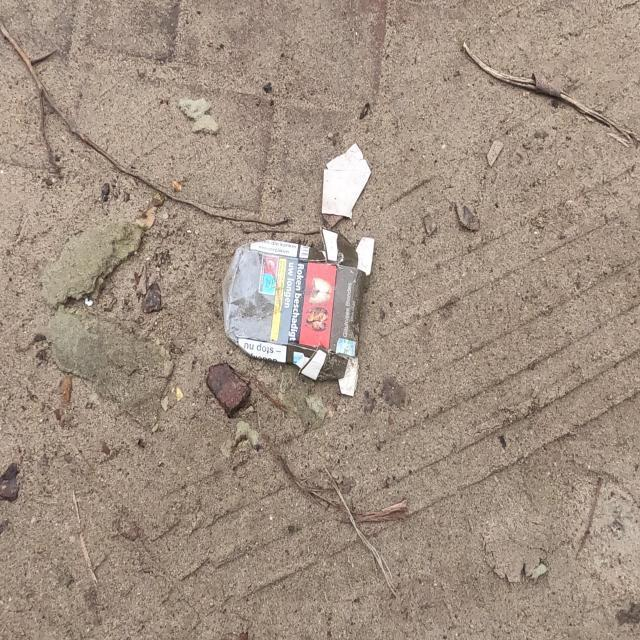Paper: (222, 225, 376, 399)
